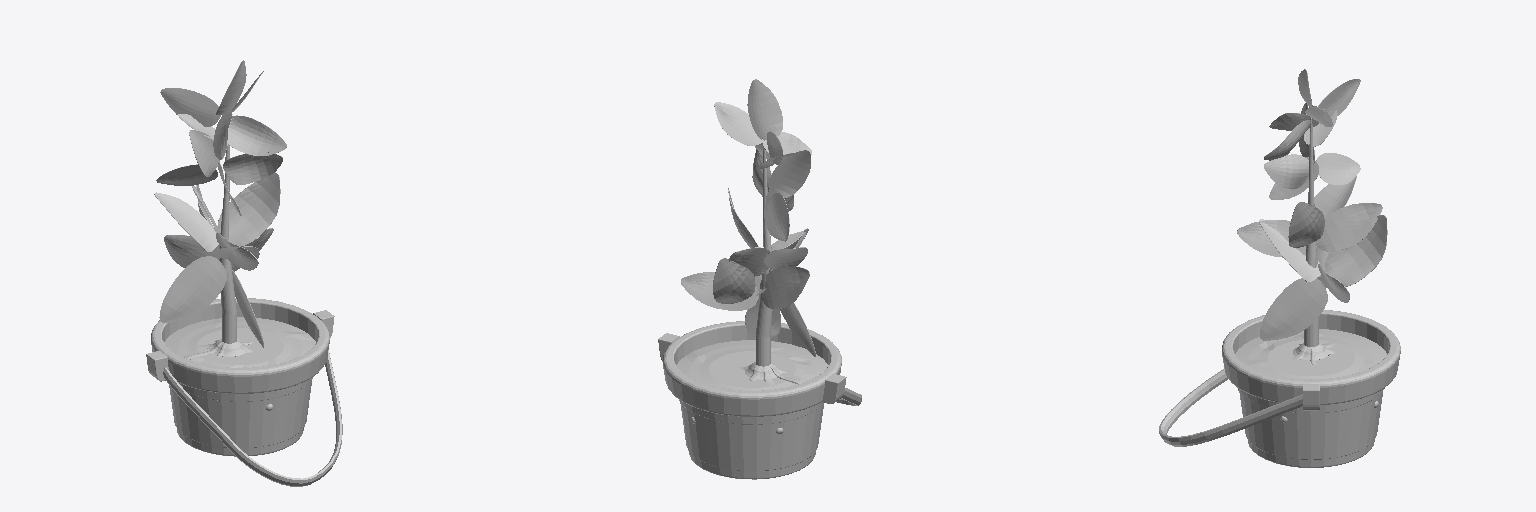
File: SetA_PottedPlant_Style_02_Comb.obj
The picture shows the model from 3 angles: view 1: azimuth 30°, elevation 25°; view 2: azimuth 150°, elevation 25°; view 3: azimuth 270°, elevation 25°; orthographic projection.
Parts seen in each view (by area): view 1: SetA_PottedPlant_Style_03, SetA_PottedPlant_Style_02_Leaves; view 2: SetA_PottedPlant_Style_03, SetA_PottedPlant_Style_02_Leaves; view 3: SetA_PottedPlant_Style_03, SetA_PottedPlant_Style_02_Leaves.
Part boxes in pixels (x1,y1,x2,y2): SetA_PottedPlant_Style_03: (146,144,342,486); SetA_PottedPlant_Style_02_Leaves: (154,60,286,347); SetA_PottedPlant_Style_03: (658,147,861,479); SetA_PottedPlant_Style_02_Leaves: (681,79,815,356); SetA_PottedPlant_Style_03: (1159,118,1400,467); SetA_PottedPlant_Style_02_Leaves: (1237,69,1387,340).
Bounding box in the file's own units: 0.4428 × 0.874 × 0.5154.